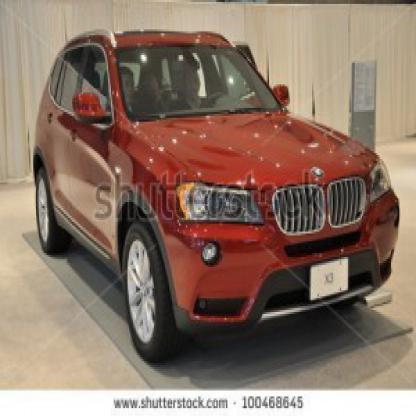Vehicle: (30, 25, 405, 369)
